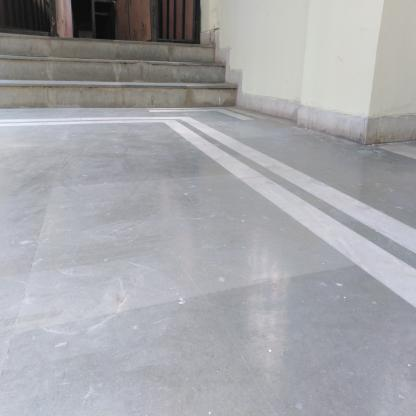stairs: (6, 39, 215, 113)
